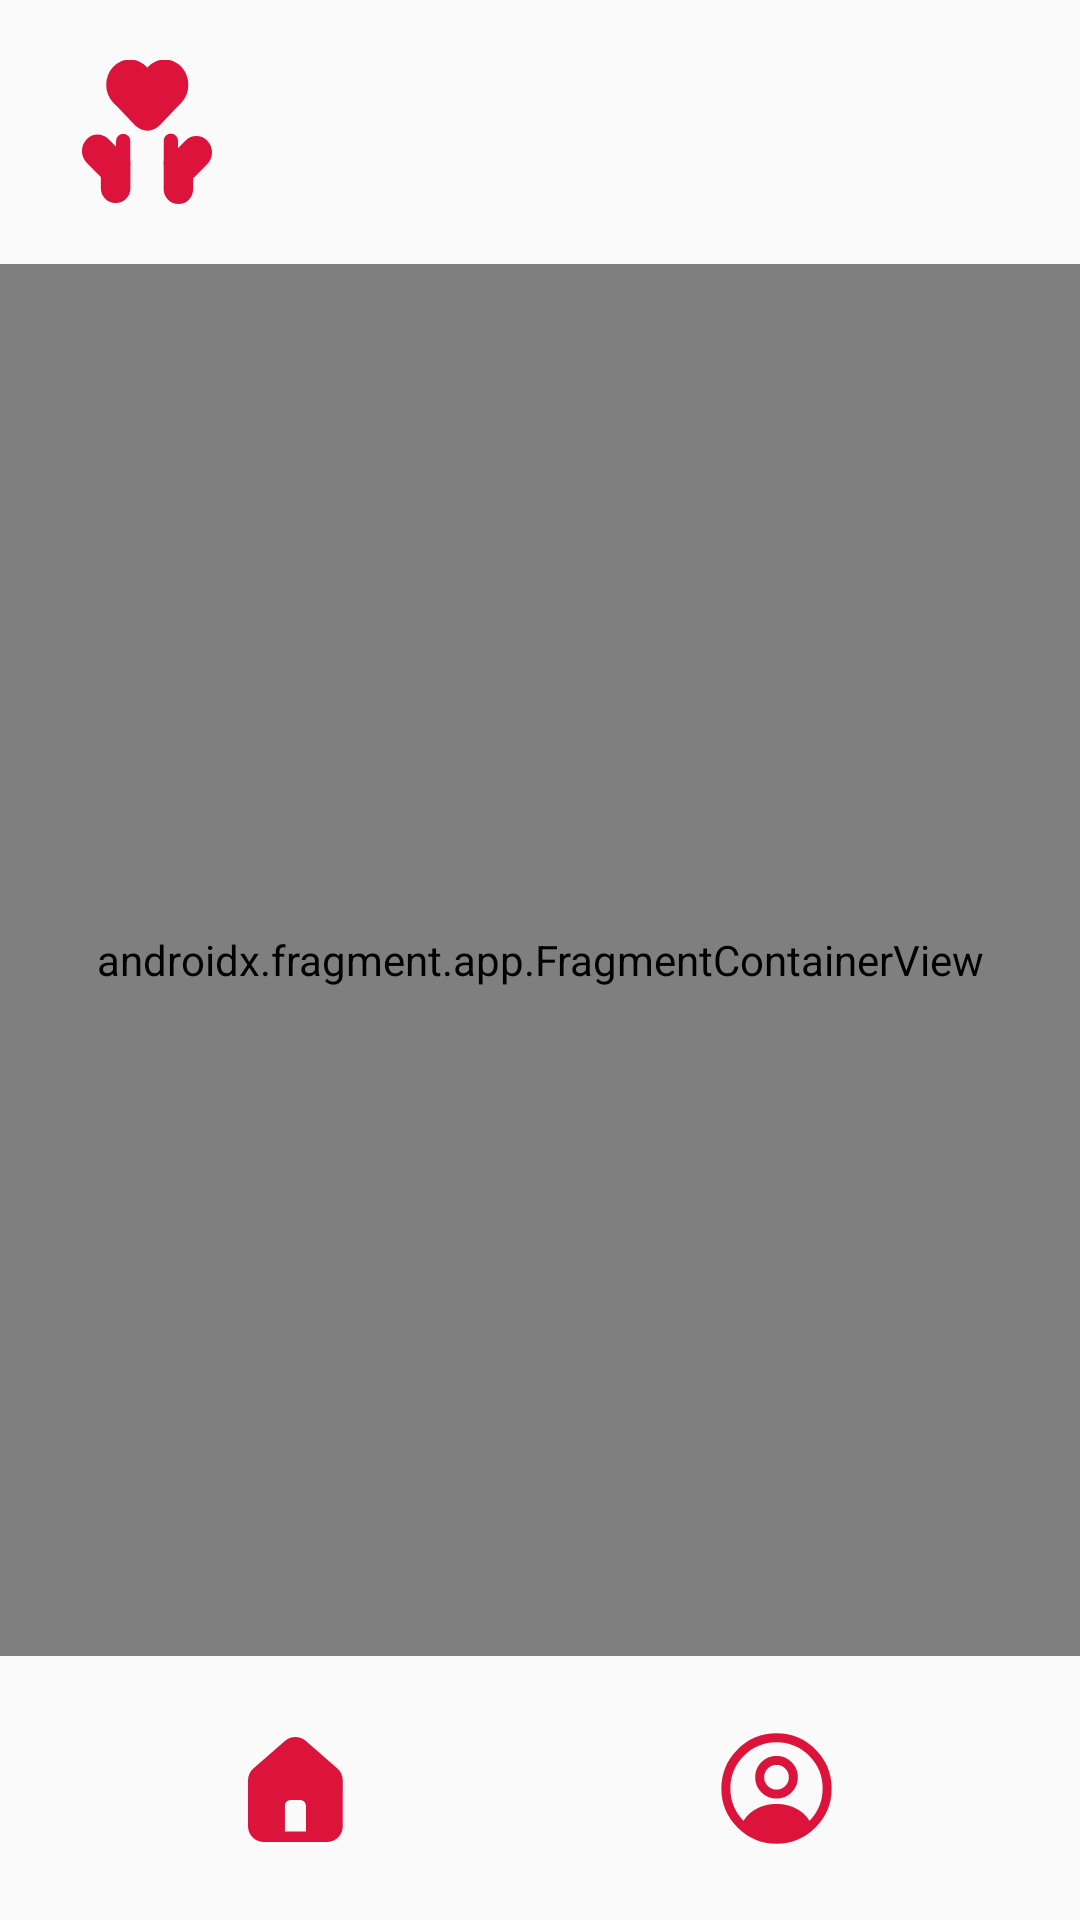

Named icons in this screenshot (1080px x 1920px) and their bounding boxes, (x1, y1, x2, y2):
ihomes: (248, 1737, 343, 1842)
iprofilen: (721, 1733, 832, 1844)
